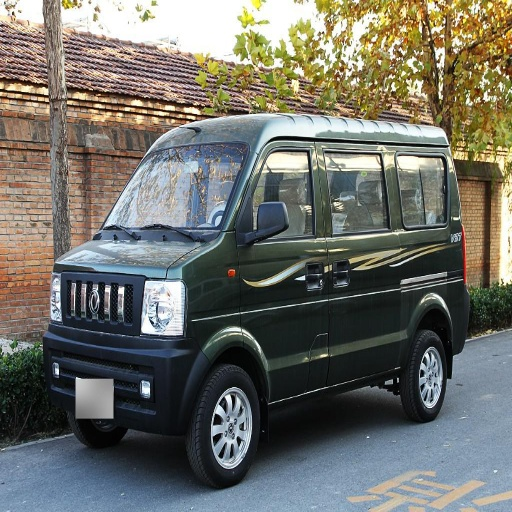front_bumper: (44, 268, 197, 430)
front_glass: (102, 128, 252, 238)
front_left_door: (235, 141, 331, 392)
trunk: (404, 247, 461, 334)
